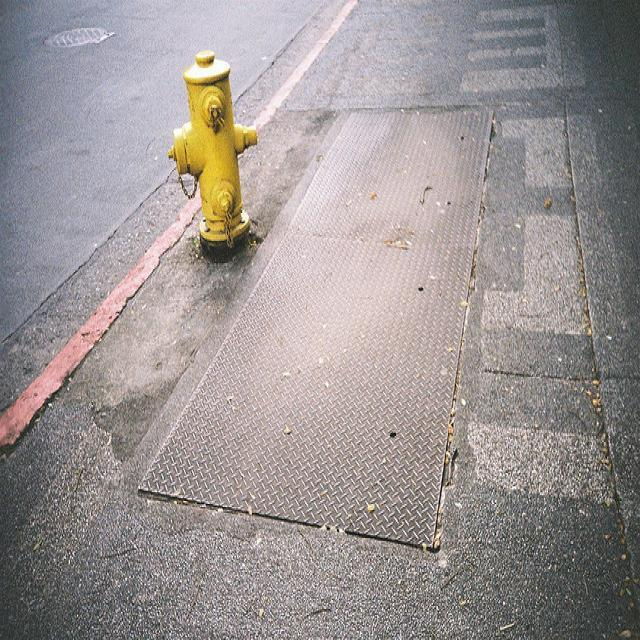fire_hydrant: (168, 48, 257, 252)
